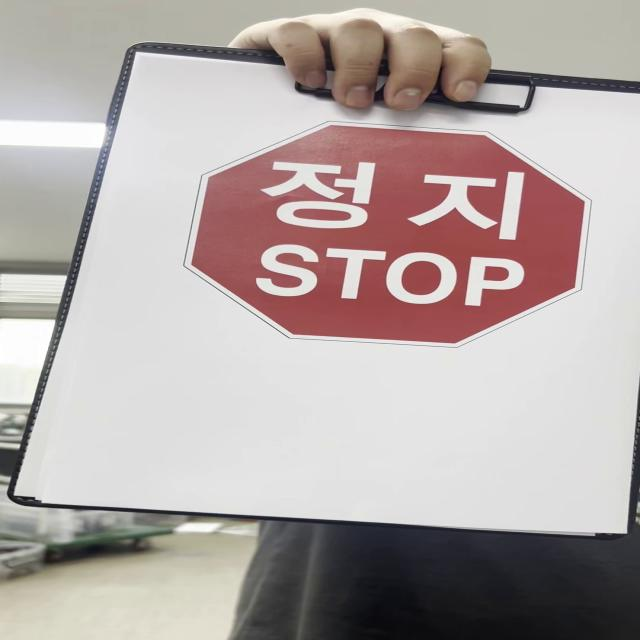stop: (182, 119, 598, 352)
